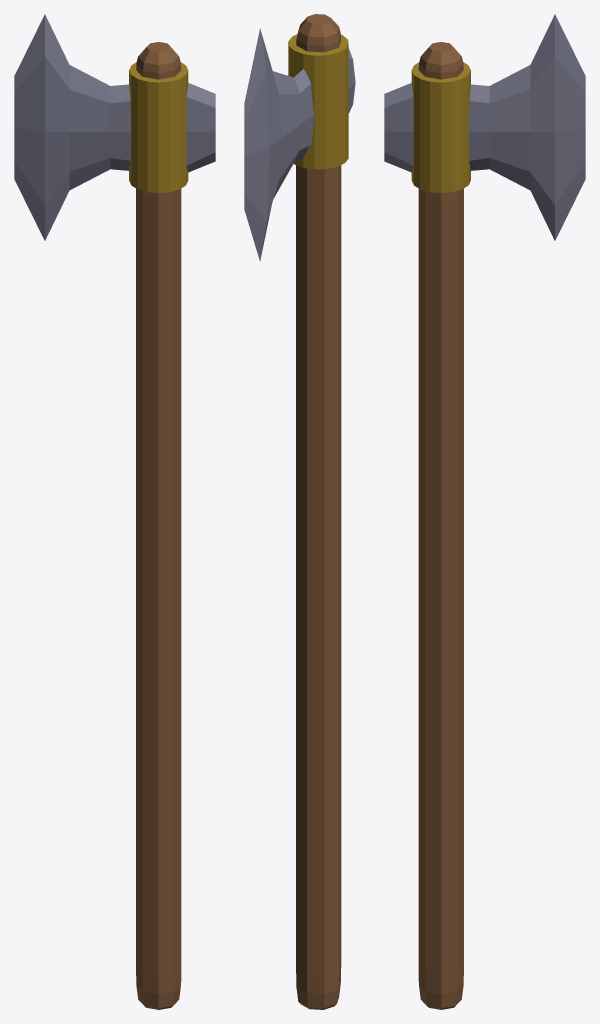
Rendered from Hatchet.glb.
The picture shows the model from 3 angles, left to right: view 1: azimuth 90°, elevation 25°; view 2: azimuth 150°, elevation 25°; view 3: azimuth 270°, elevation 25°; orthographic projection. The views are drawn at different scales.
Visible parts, largest first — view 1: Hatchet; view 2: Hatchet; view 3: Hatchet.
Boxes of the visible parts, bbox=[...] form: Hatchet: bbox=[14, 14, 215, 1009]; Hatchet: bbox=[244, 14, 355, 1009]; Hatchet: bbox=[384, 14, 585, 1009].
Size of the model in its own units: 0.026 by 0.4792 by 0.0884.
